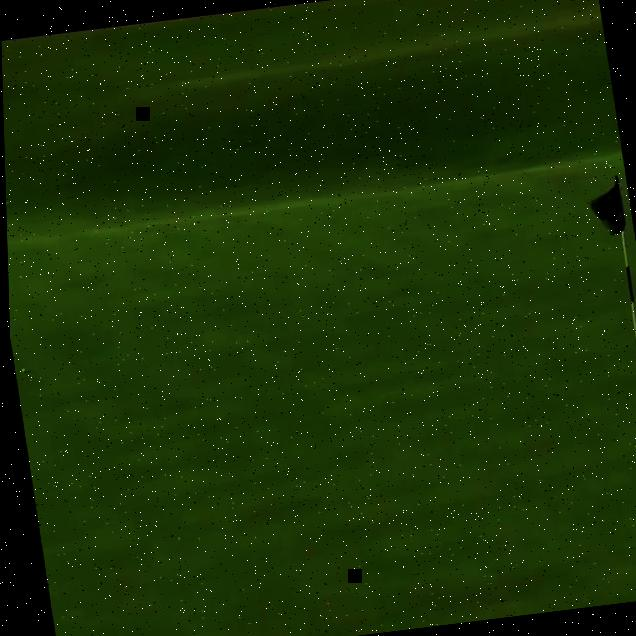GolfBall: (15, 364, 30, 376)
